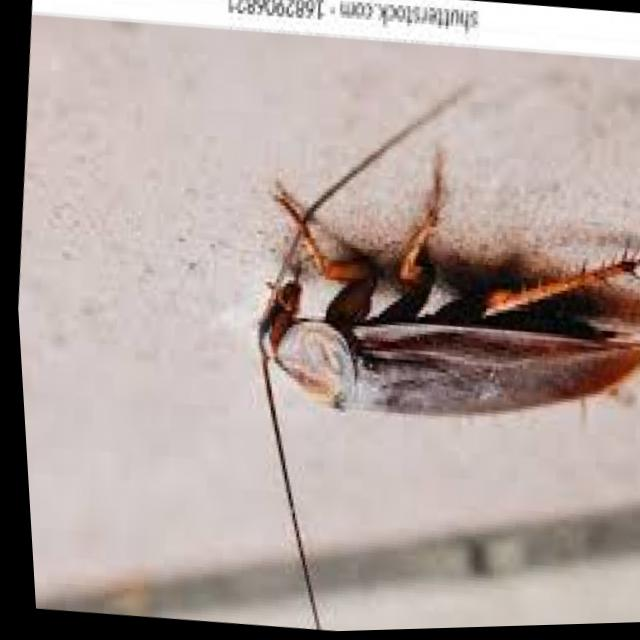Cockroach: (202, 51, 640, 635)
